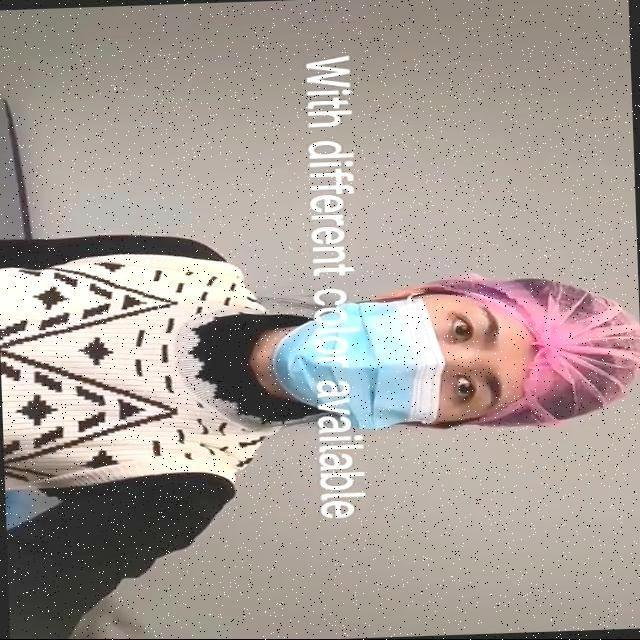mask: (284, 294, 432, 419)
